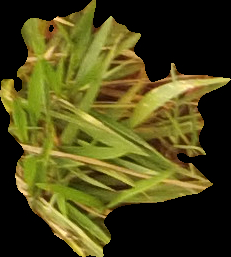grass: (1, 1, 229, 256)
